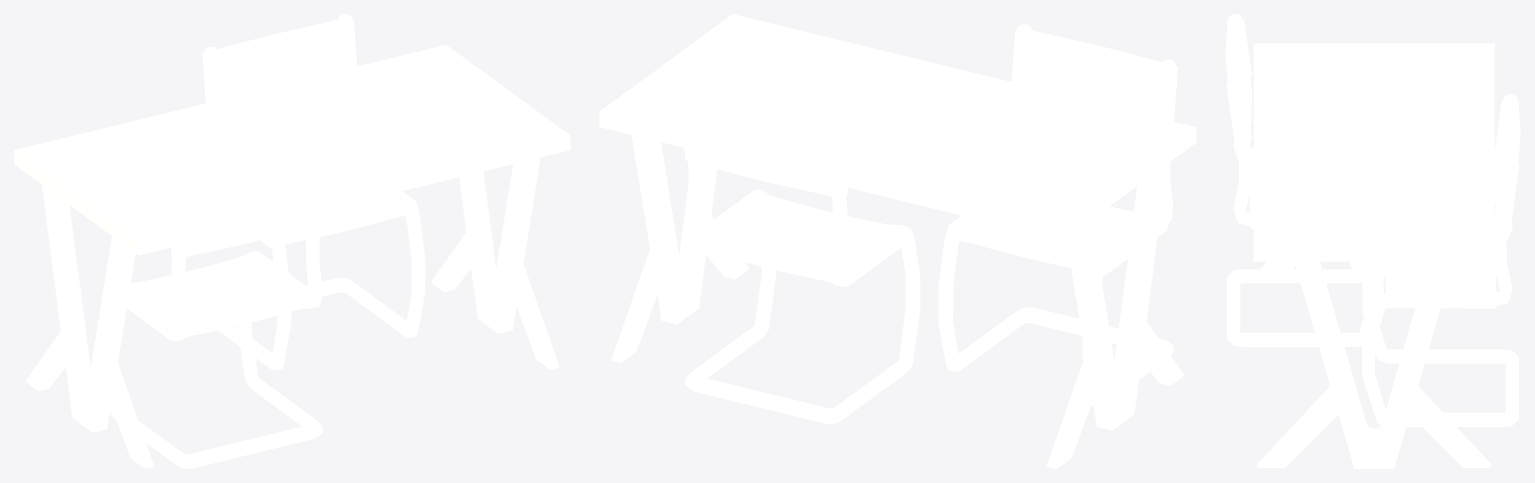
The model's file is Office_Assets_Dining_Table_Var_1.glb.
The picture shows the model from 3 angles, left to right: view 1: azimuth 30°, elevation 25°; view 2: azimuth 150°, elevation 25°; view 3: azimuth 270°, elevation 25°; orthographic projection. The views are drawn at different scales.
Visible parts, largest first — view 1: Dining_Table_Var_1; view 2: Dining_Table_Var_1; view 3: Dining_Table_Var_1.
Boxes of the visible parts, left/top/right/bottom form: Dining_Table_Var_1: left=14, top=14, right=570, bottom=468; Dining_Table_Var_1: left=599, top=14, right=1196, bottom=468; Dining_Table_Var_1: left=1225, top=14, right=1520, bottom=468.
Bounding box in the file's own units: 1.99 × 1.22 × 1.22.
